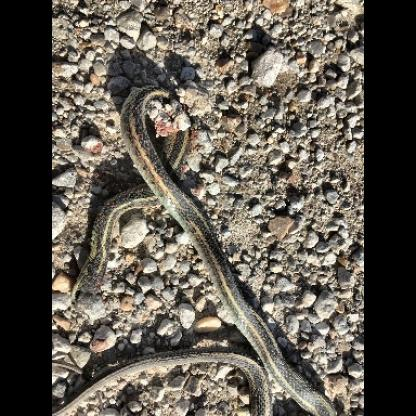Snake: (72, 65, 326, 410)
